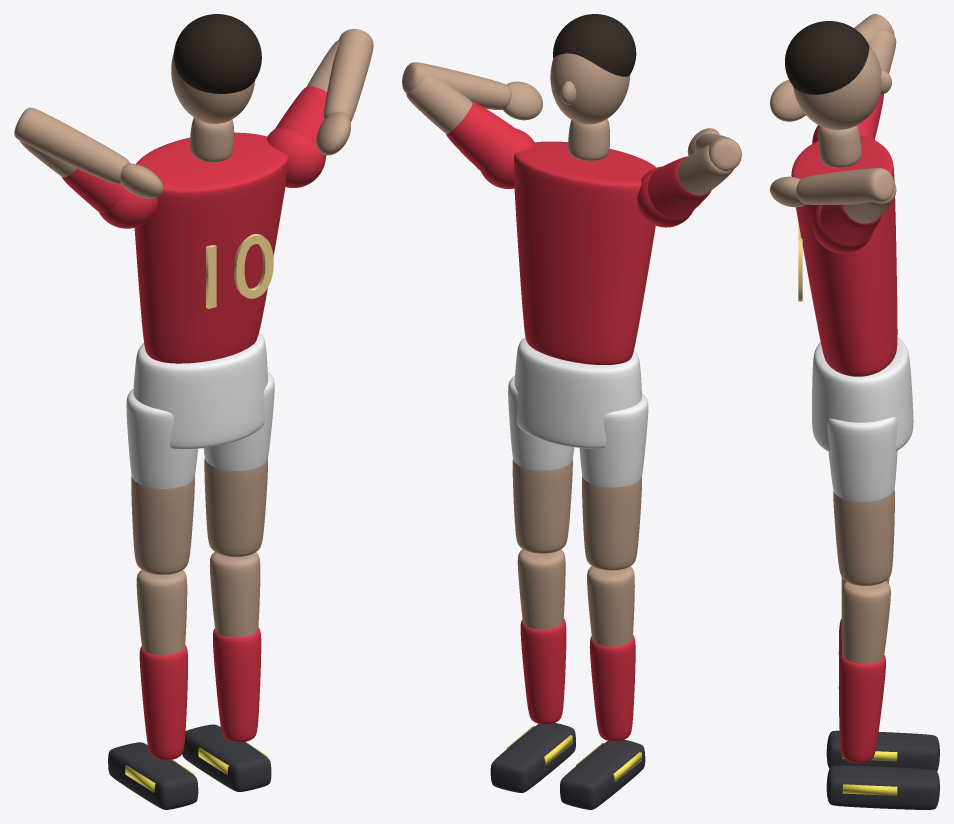
Rendered from reward-celeb-own-name.glb.
3 renders of one model, left to right at view 1: azimuth 30°, elevation 25°; view 2: azimuth 150°, elevation 25°; view 3: azimuth 270°, elevation 25°, orthographic. The views are drawn at different scales.
Parts seen in each view (by area): view 1: Cone.001, Cone, Sphere.001, Cone.007, Cone.014, Cone.016, Cone.009, Cone.006, Cone.005, Cone.015, Cone.008, Cube (+13 smaller); view 2: Cone.001, Cone, Cone.014, Cone.007, Cone.006, Cone.016, Cone.009, Sphere, Cube.002, Cube, Sphere.001, Cone.015 (+12 smaller); view 3: Cone.001, Cone, Cone.013, Cone.014, Sphere.001, Cone.016, Cube.002, Cone.015, Sphere, Cone.012, Cube, Cone.002 (+10 smaller).
Boxes of the visible parts, left/top/right/bottom form: Cone.001: left=134, top=132, right=288, bottom=363; Cone: left=133, top=332, right=267, bottom=449; Sphere.001: left=174, top=14, right=261, bottom=93; Cone.007: left=131, top=475, right=194, bottom=574; Cone.014: left=204, top=458, right=267, bottom=556; Cone.016: left=213, top=627, right=261, bottom=742; Cone.009: left=139, top=645, right=187, bottom=760; Cone.006: left=126, top=389, right=197, bottom=488; Cone.005: left=14, top=107, right=129, bottom=184; Cone.015: left=209, top=552, right=260, bottom=637; Cone.008: left=136, top=570, right=187, bottom=655; Cube: left=108, top=742, right=198, bottom=809; Cone.001: left=514, top=141, right=656, bottom=364; Cone: left=514, top=337, right=641, bottom=448; Cone.014: left=512, top=459, right=572, bottom=553; Cone.007: left=582, top=476, right=641, bottom=570; Cone.006: left=579, top=393, right=648, bottom=487; Cone.016: left=520, top=618, right=566, bottom=724; Cone.009: left=589, top=635, right=635, bottom=741; Sphere: left=550, top=53, right=630, bottom=124; Cube.002: left=490, top=723, right=575, bottom=792; Cube: left=560, top=739, right=645, bottom=809; Sphere.001: left=553, top=14, right=636, bottom=76; Cone.015: left=517, top=549, right=565, bottom=629; Cone.001: left=791, top=135, right=897, bottom=376; Cone: left=812, top=336, right=913, bottom=452; Cone.013: left=827, top=417, right=897, bottom=501; Cone.014: left=833, top=489, right=894, bottom=585; Sphere.001: left=785, top=21, right=869, bottom=94; Cone.016: left=838, top=652, right=885, bottom=763; Cube.002: left=826, top=765, right=939, bottom=809; Cone.015: left=841, top=581, right=890, bottom=663; Sphere: left=793, top=45, right=881, bottom=129; Cone.012: left=796, top=168, right=894, bottom=204; Cube: left=826, top=730, right=939, bottom=771; Cone.002: left=818, top=125, right=861, bottom=167.
Size of the model in its own units: 1.75 by 3.7 by 0.7473.
